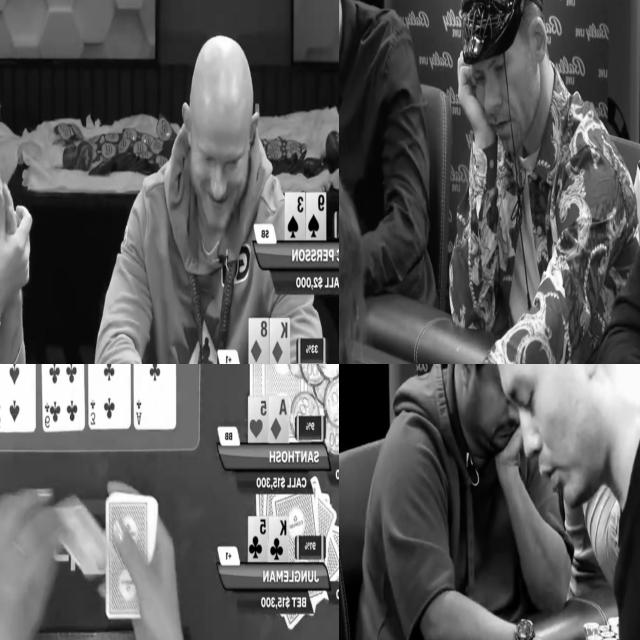3S: (285, 192, 305, 240)
5C: (248, 518, 269, 562)
5H: (248, 394, 269, 445)
8D: (249, 318, 268, 364)
9S: (306, 193, 326, 239)
AD: (268, 396, 289, 444)
KC: (268, 514, 289, 562)
KD: (269, 318, 289, 364)
